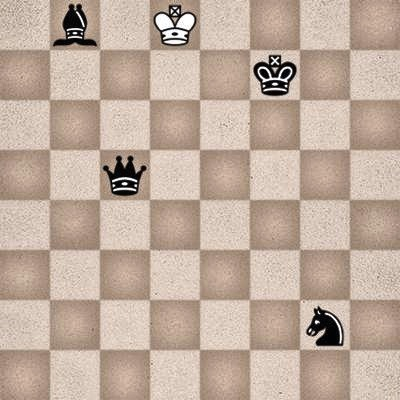black-bishop: (50, 0, 100, 50)
black-king: (250, 50, 300, 100)
black-knight: (300, 300, 350, 350)
black-queen: (100, 150, 150, 200)
white-king: (150, 0, 200, 50)
